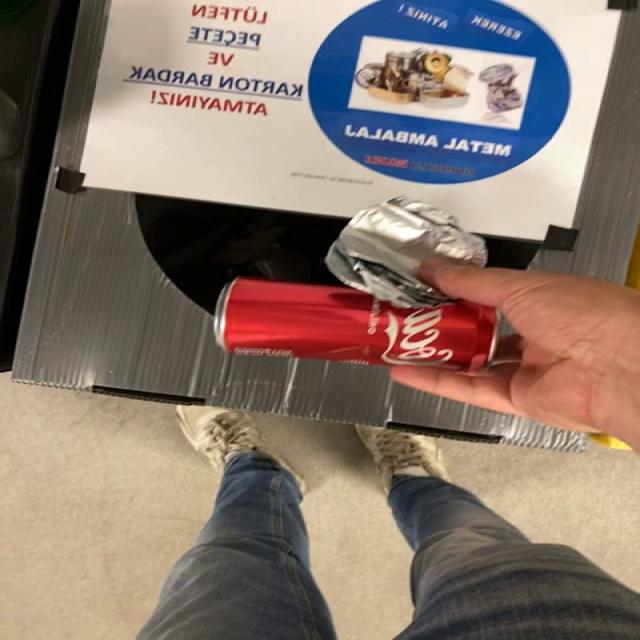bin: (12, 0, 639, 450)
metal: (213, 277, 497, 371)
